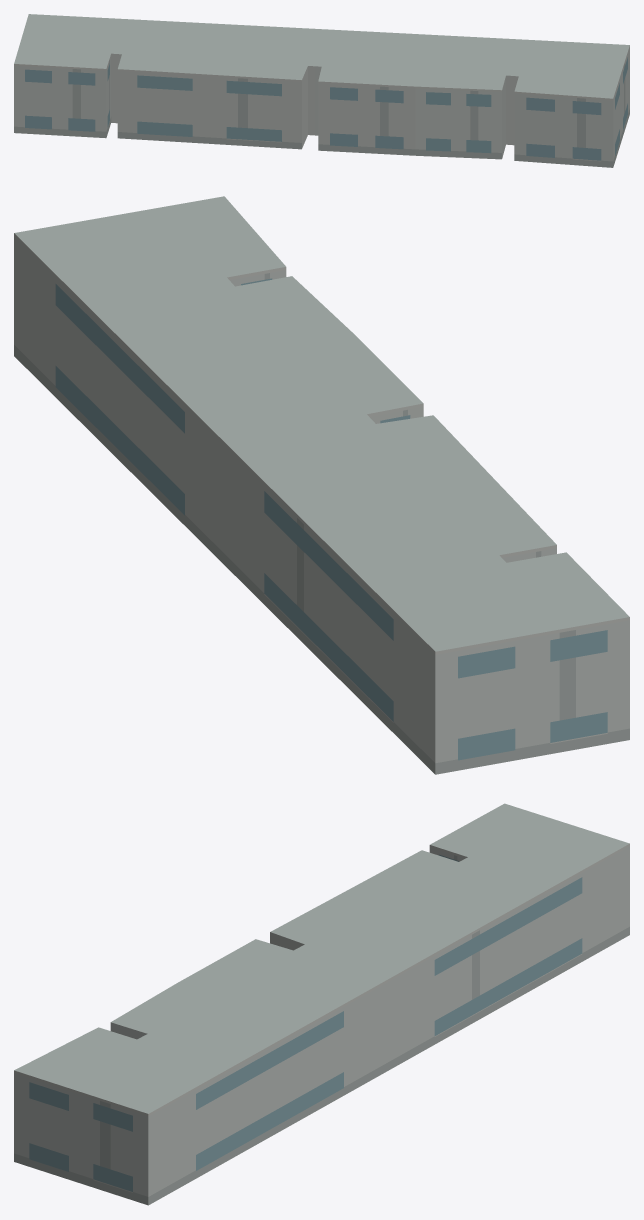
File: residential-b4e1c24d-0e6a-4e69-8bad-13fb87bbab73.glb
3 renders of one model, top to bottom at view 1: azimuth 30°, elevation 25°; view 2: azimuth 150°, elevation 25°; view 3: azimuth 270°, elevation 25°, orthographic. The views are drawn at different scales.
Visible parts, largest first — view 1: residential-b4e1c24d-0e6a-4e69-8bad-13fb87bbab73.tmp; view 2: residential-b4e1c24d-0e6a-4e69-8bad-13fb87bbab73.tmp; view 3: residential-b4e1c24d-0e6a-4e69-8bad-13fb87bbab73.tmp.
Boxes of the visible parts, x1,y1,x2,y2 form: residential-b4e1c24d-0e6a-4e69-8bad-13fb87bbab73.tmp: [14, 14, 629, 167]; residential-b4e1c24d-0e6a-4e69-8bad-13fb87bbab73.tmp: [14, 196, 629, 774]; residential-b4e1c24d-0e6a-4e69-8bad-13fb87bbab73.tmp: [14, 803, 629, 1205].
Bounding box in the file's own units: 66.59 × 9.15 × 55.82.
